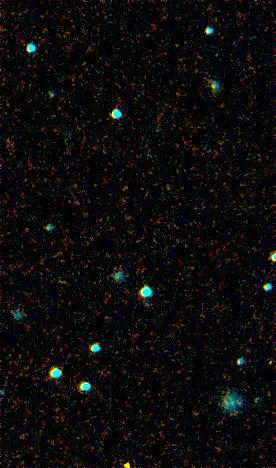star: (111, 447, 141, 468)
